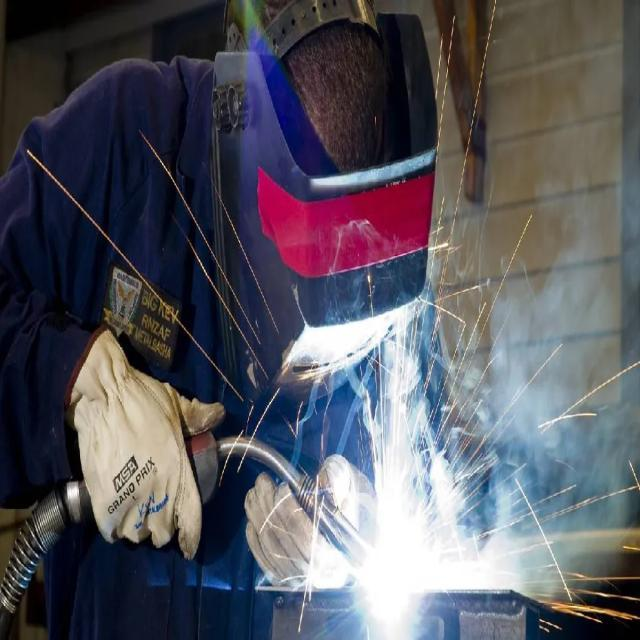with_helmet: (213, 15, 435, 377)
